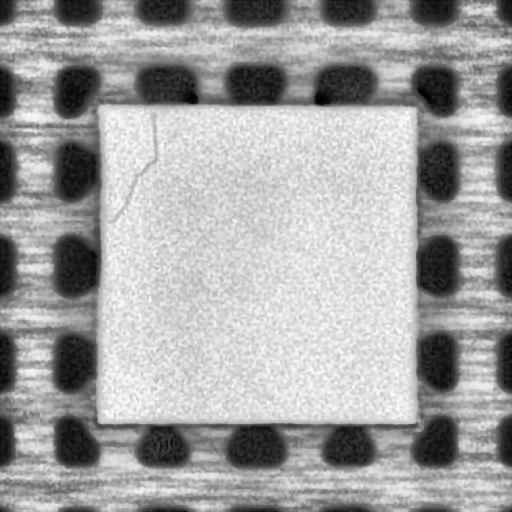DIE_CRACK: (108, 110, 158, 226)
